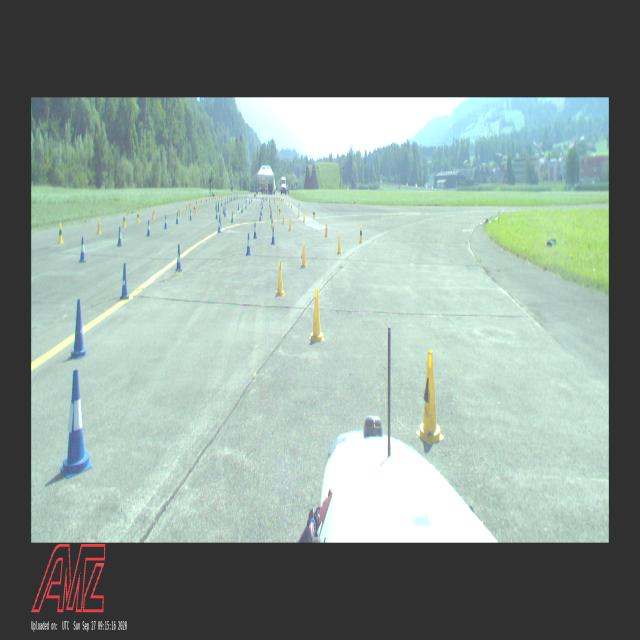blue_cone: (61, 368, 92, 478), (68, 298, 88, 359), (120, 263, 128, 299), (175, 244, 182, 272), (80, 236, 86, 262), (246, 233, 252, 256), (117, 226, 122, 246), (271, 226, 275, 245), (253, 222, 257, 238), (146, 220, 150, 236), (164, 215, 168, 229), (218, 218, 221, 232), (215, 210, 218, 220), (176, 212, 178, 224), (190, 210, 192, 220), (232, 212, 234, 222), (259, 212, 261, 222), (241, 205, 243, 213), (224, 208, 226, 216), (218, 204, 220, 212), (215, 202, 217, 210), (223, 206, 225, 214), (270, 210, 272, 218), (238, 203, 240, 210), (220, 200, 222, 206)
yellow_cone: (416, 350, 444, 444), (309, 288, 325, 342), (276, 260, 285, 296), (301, 240, 307, 268), (58, 222, 64, 244), (337, 233, 342, 255), (359, 225, 363, 242), (324, 222, 328, 238), (97, 218, 101, 234), (122, 214, 126, 228), (137, 210, 140, 223), (289, 218, 292, 231), (271, 215, 273, 228), (152, 208, 154, 220), (193, 205, 196, 212), (195, 200, 198, 207), (282, 214, 284, 224), (179, 207, 181, 217), (313, 210, 315, 219), (304, 213, 306, 222), (205, 198, 208, 204), (279, 207, 281, 215), (186, 202, 188, 210), (189, 201, 191, 209), (195, 207, 197, 215), (298, 209, 300, 217), (200, 198, 202, 205), (277, 204, 279, 211), (270, 205, 272, 212), (212, 197, 214, 202), (215, 196, 216, 200), (210, 196, 210, 202)
